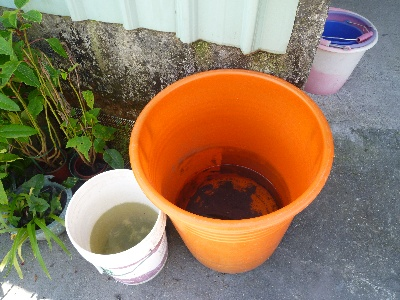bucket: (128, 67, 335, 277), (63, 167, 171, 285), (299, 5, 379, 96)
